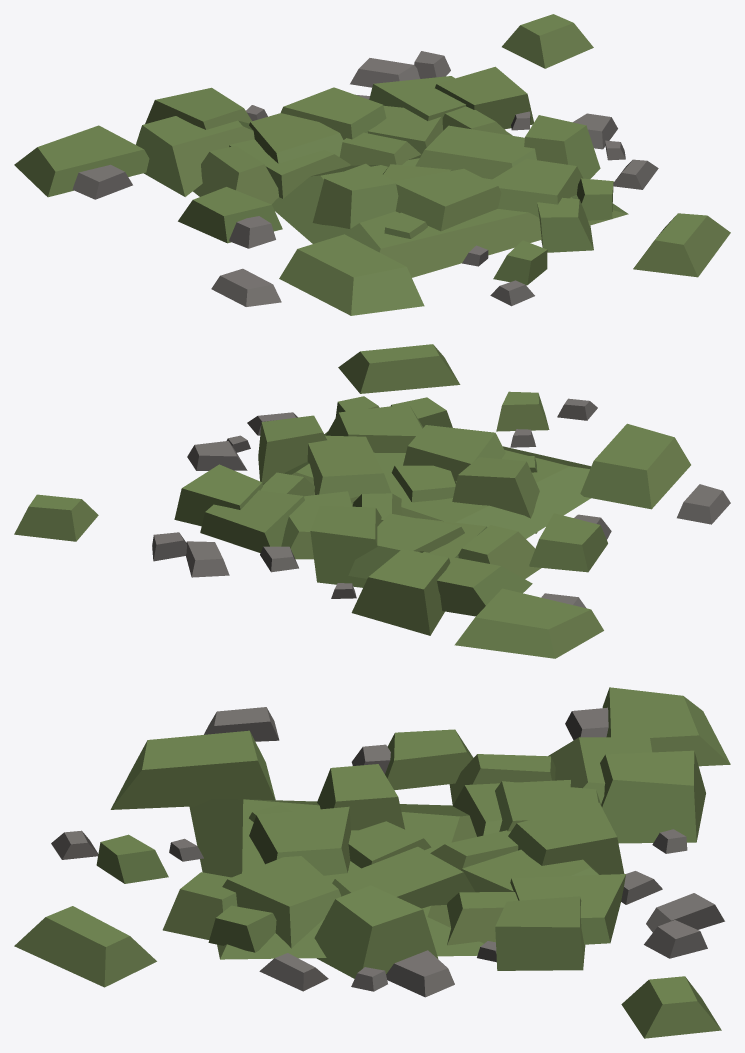
File: AI_Env_Growth.fbx
The picture shows the model from 3 angles, top to bottom: view 1: azimuth 30°, elevation 25°; view 2: azimuth 150°, elevation 25°; view 3: azimuth 270°, elevation 25°; orthographic projection. The views are drawn at different scales.
Visible parts, largest first — view 1: AI_Env_Growth; view 2: AI_Env_Growth; view 3: AI_Env_Growth.
Part boxes in pixels (x1,y1,x2,y2): AI_Env_Growth: (14,14,730,315); AI_Env_Growth: (14,344,730,658); AI_Env_Growth: (14,687,730,1038).
Size of the model in its own units: 4.24 by 0.3947 by 3.87.
